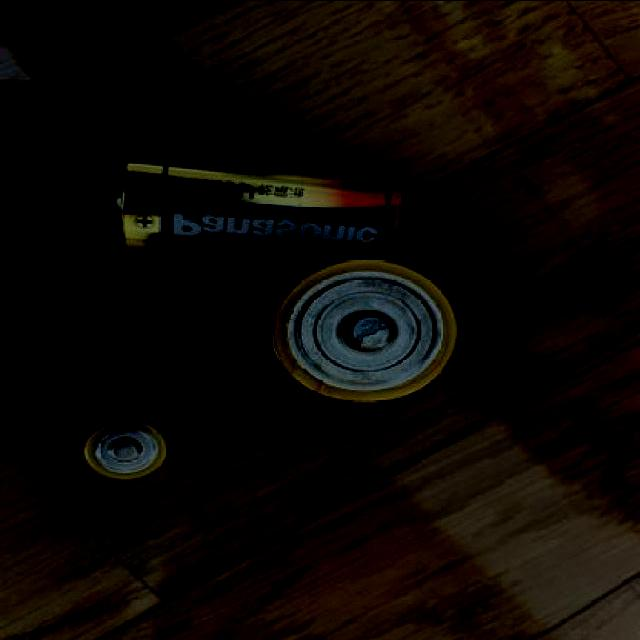AA: (80, 380, 191, 480)
